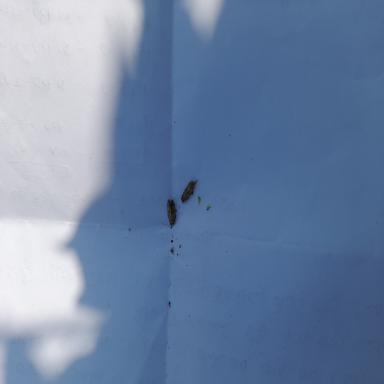pbw: (161, 198, 181, 229), (180, 178, 199, 202)
